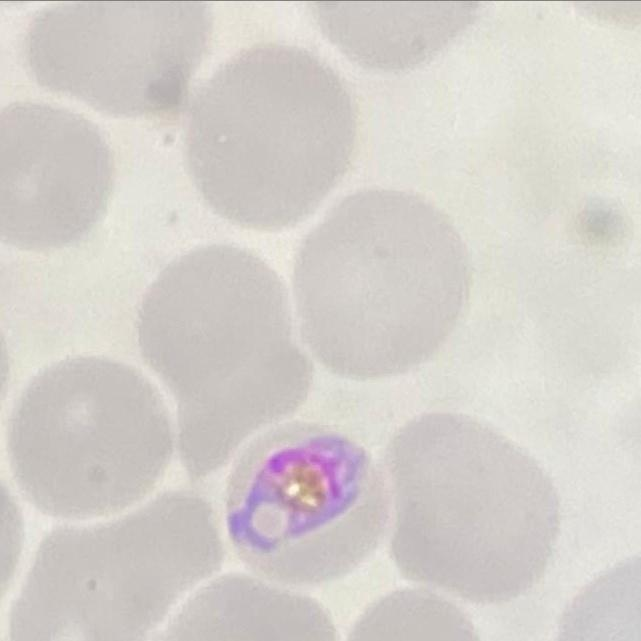Infected: (229, 423, 396, 584)
Uninfected: (143, 243, 314, 458), (297, 191, 472, 381), (389, 417, 560, 602), (188, 45, 355, 230), (19, 492, 224, 641), (14, 359, 174, 517), (25, 0, 208, 115)
